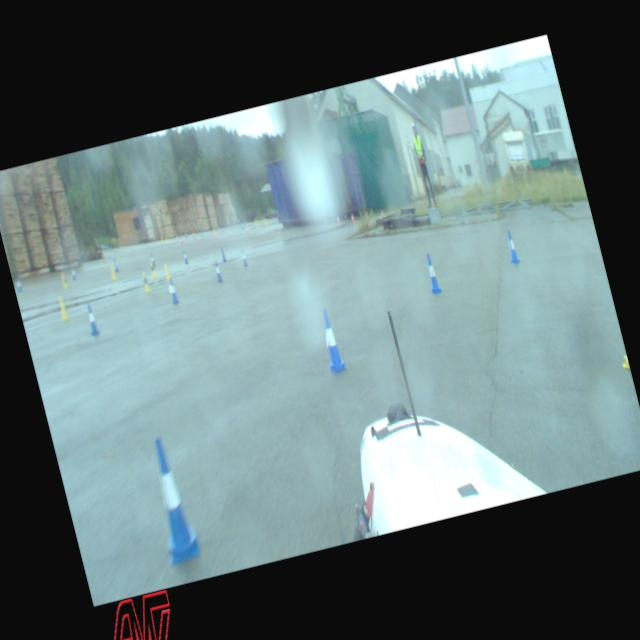blue_cone: (140, 433, 202, 565), (314, 305, 348, 374), (422, 252, 442, 294), (503, 228, 520, 265), (84, 301, 100, 336), (166, 278, 178, 304), (212, 260, 222, 282), (238, 246, 248, 268), (218, 244, 228, 262), (15, 276, 22, 292), (181, 250, 188, 264), (70, 266, 76, 280), (148, 253, 154, 265)
orange_cone: (350, 213, 356, 223), (336, 214, 340, 223), (196, 232, 200, 241)
yellow_cone: (56, 294, 68, 320), (140, 269, 151, 293), (162, 261, 172, 281), (59, 271, 68, 289), (148, 260, 155, 276), (108, 264, 114, 278), (262, 216, 266, 224)
